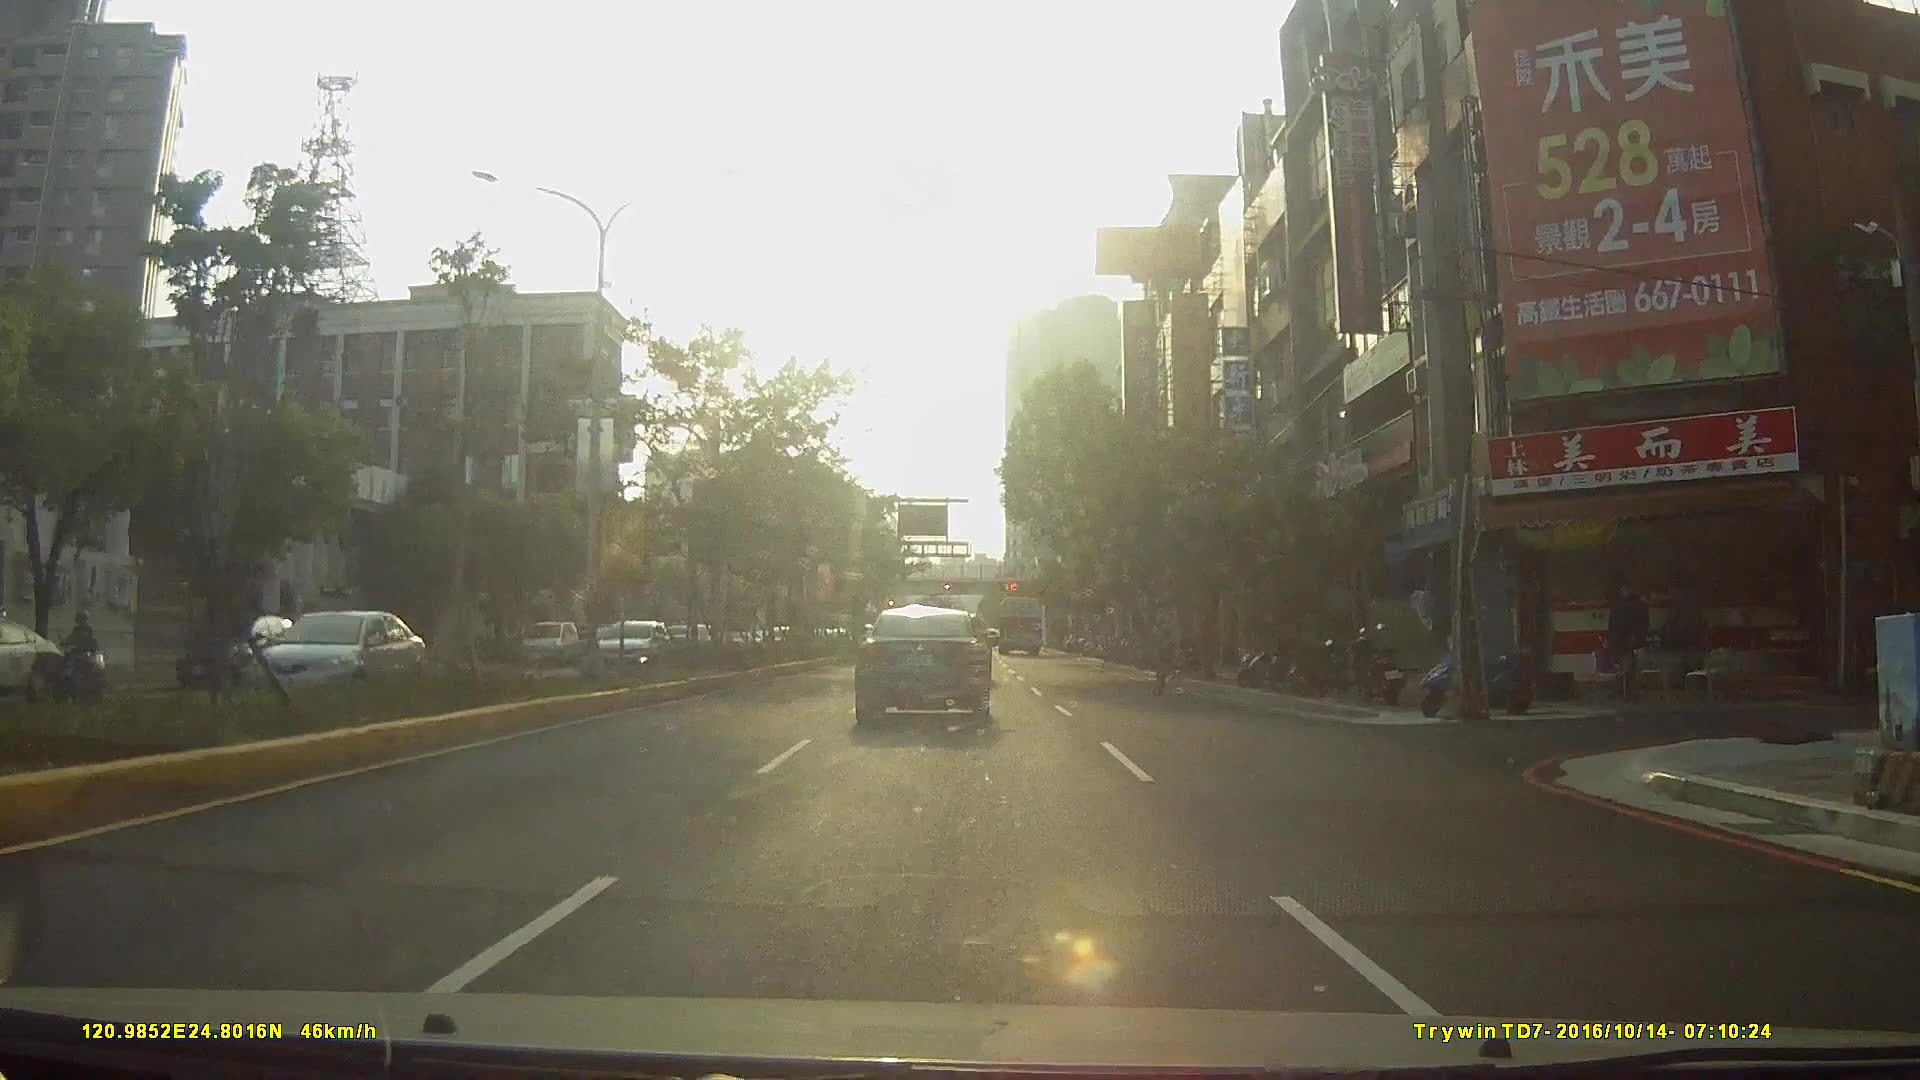pedestrian: (1147, 611, 1186, 698)
rider: (49, 609, 103, 708)
vehicle: (230, 601, 442, 732), (852, 604, 994, 728), (1, 602, 97, 735), (169, 613, 298, 690), (585, 616, 681, 680), (994, 594, 1043, 656), (516, 619, 578, 665)
